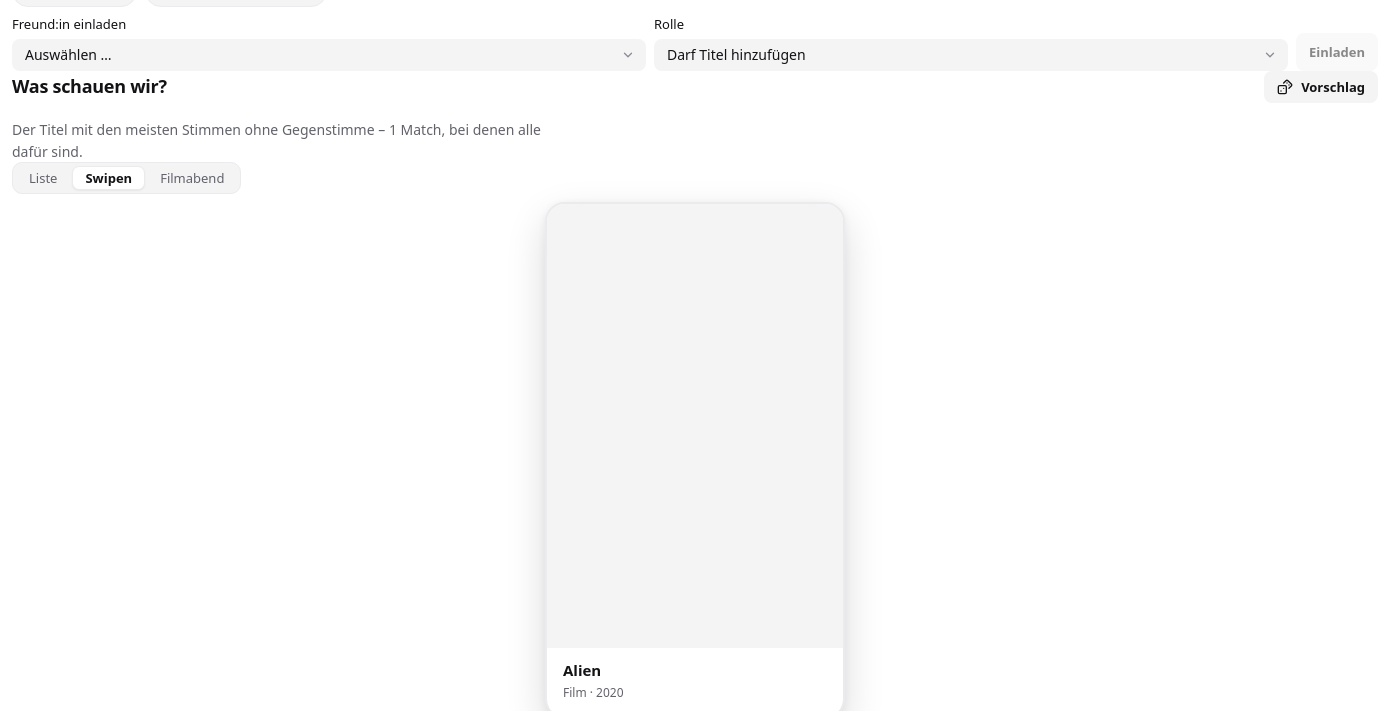
Test: ListDetailPage › swipes through the titles I have not voted on, also with the arrow keys
Expected: the link "Alien" is shown, [563,660,601,680]
Press Arrowright
(page scrolled)
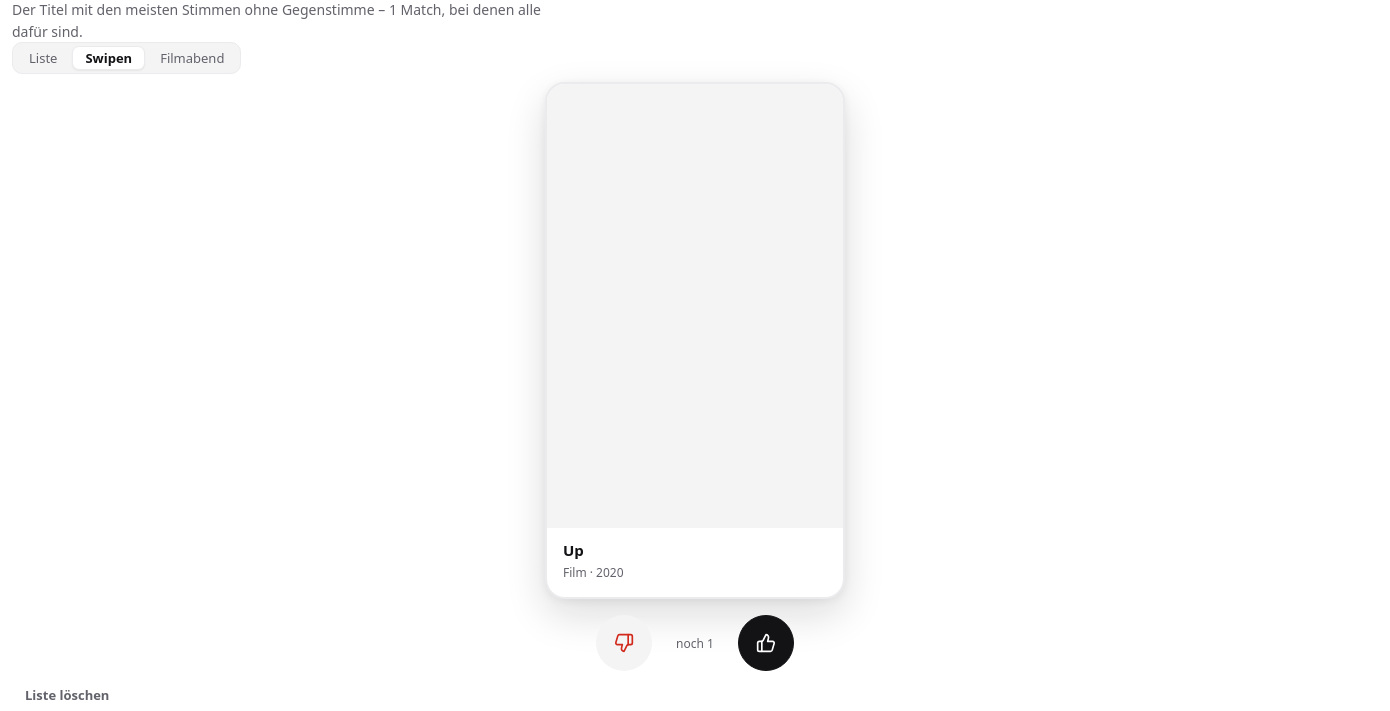
Expected: the link "Up" is shown, [563,540,584,560]
Click the button named "Up: nein". click: click(624, 644)
box: [596,616,652,672]
(page scrolled)
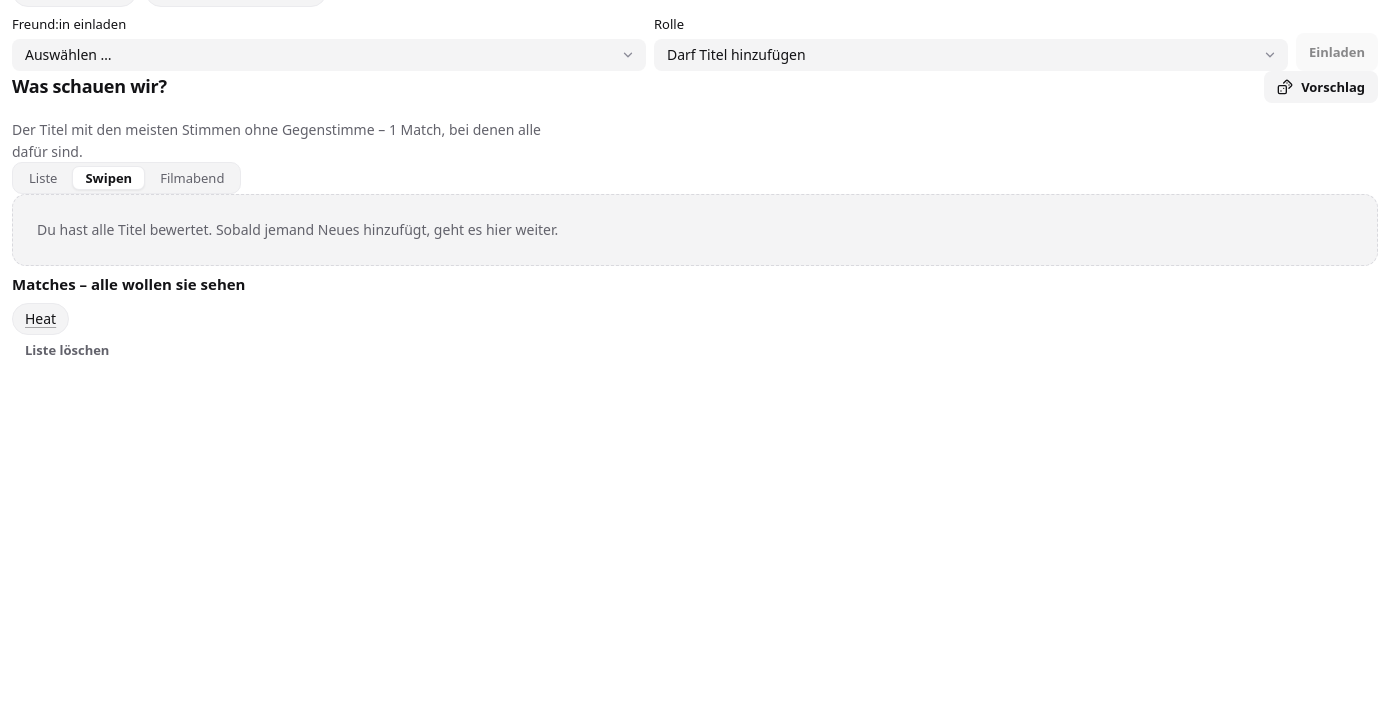
Expected: the text "alle Titel bewertet" is shown, [37,220,558,239]
Expected: the link "Heat" is shown, [25,308,56,330]
